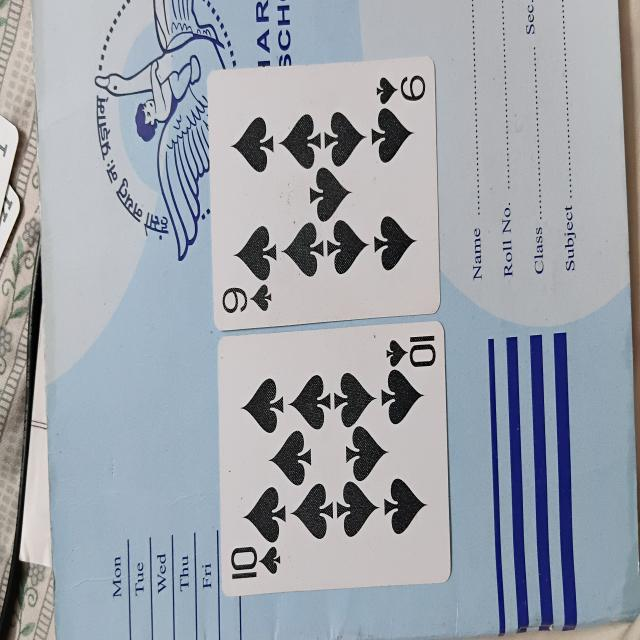10S: (217, 334, 450, 582)
9S: (206, 72, 440, 322)
